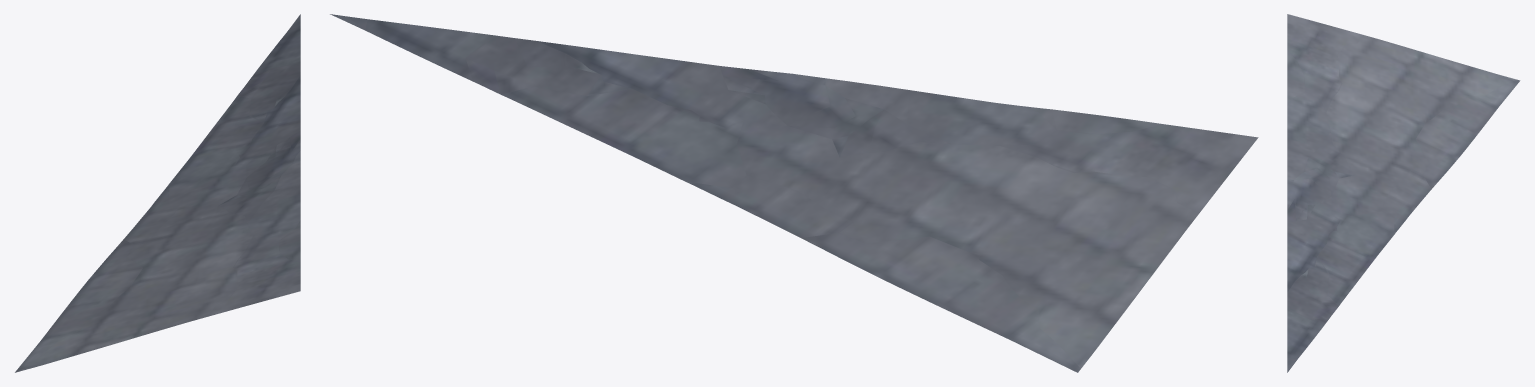
3 views of the same model, side by side, from view 1: azimuth 90°, elevation 25°; view 2: azimuth 150°, elevation 25°; view 3: azimuth 270°, elevation 25° (orthographic). The views are drawn at different scales.
Bounding box in the file's own units: 3.4 × 0.3611 × 1.15.
1 material, 1 textured.
